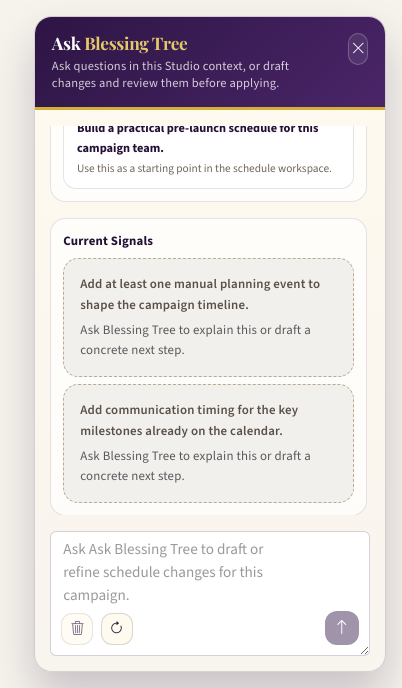
it: CampaignStudioAiRail › answers studio questions through Ask Blessing Tree instead of drafting changes
This screenshot has width=402, height=688.
(page scrolled)
Type "How do I send a sponsor reminder?" into the text box with placeholder "Ask Blessing Tree to draft or refine schedule changes" at x=210, y=594, box x1=50 y1=532 x2=370 y2=656
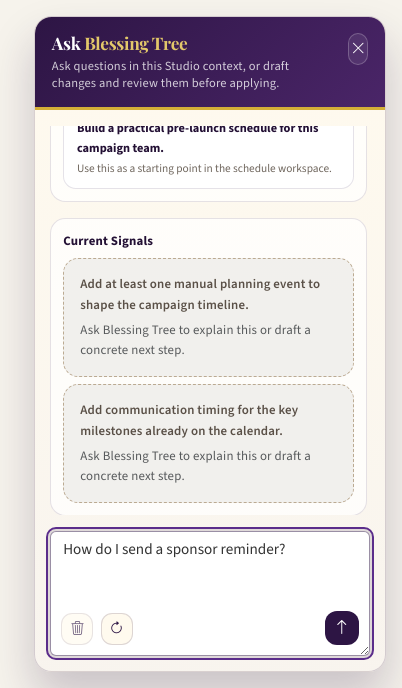
Click the button named "send ai prompt" at x=342, y=628, box x1=325 y1=611 x2=359 y2=645
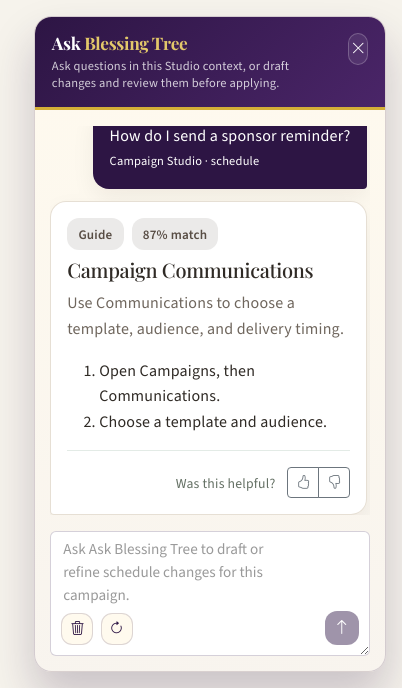
Expected: the heading "Campaign Communications" is shown, x1=67 y1=258 x2=350 y2=282
Expected: the text "Use Communications to choose a template" is shown, x1=67 y1=292 x2=344 y2=339
